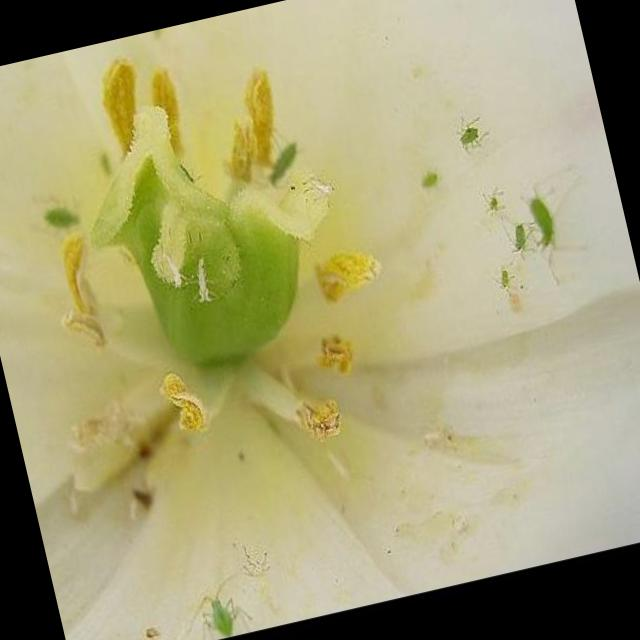aphid: (516, 184, 574, 280), (429, 100, 502, 170), (186, 569, 244, 640)
